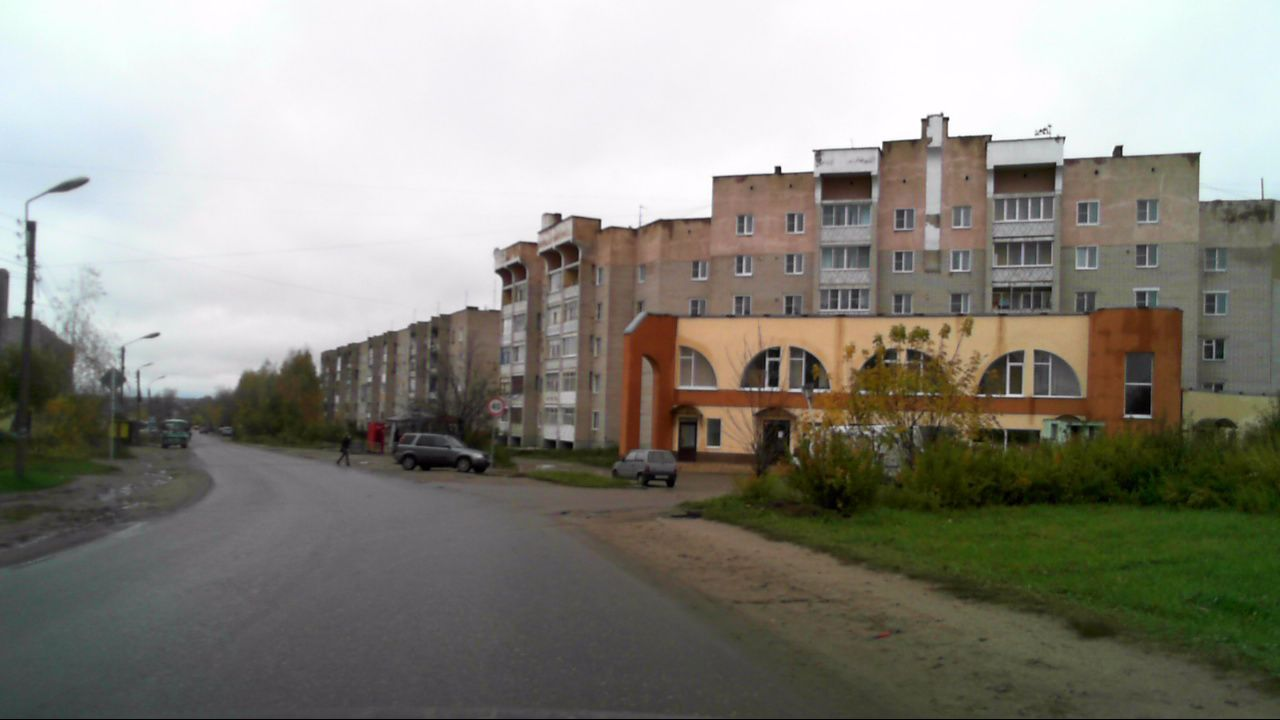speed_warning_40: (487, 395, 506, 415)
